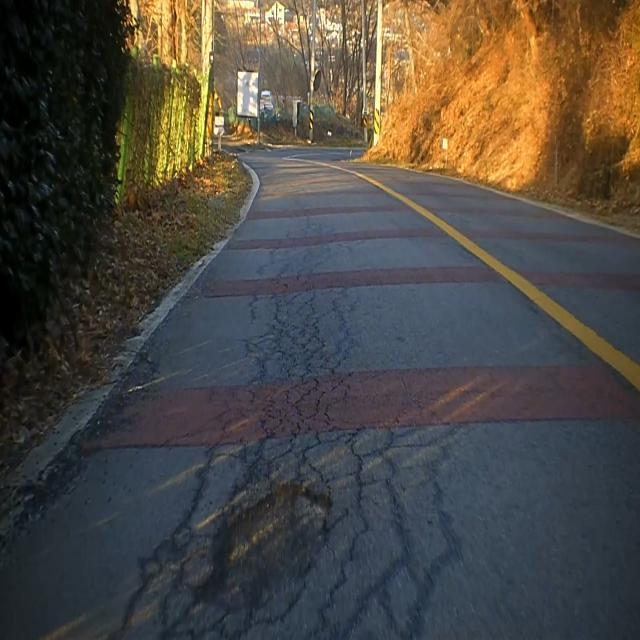pothole: (188, 470, 342, 633)
